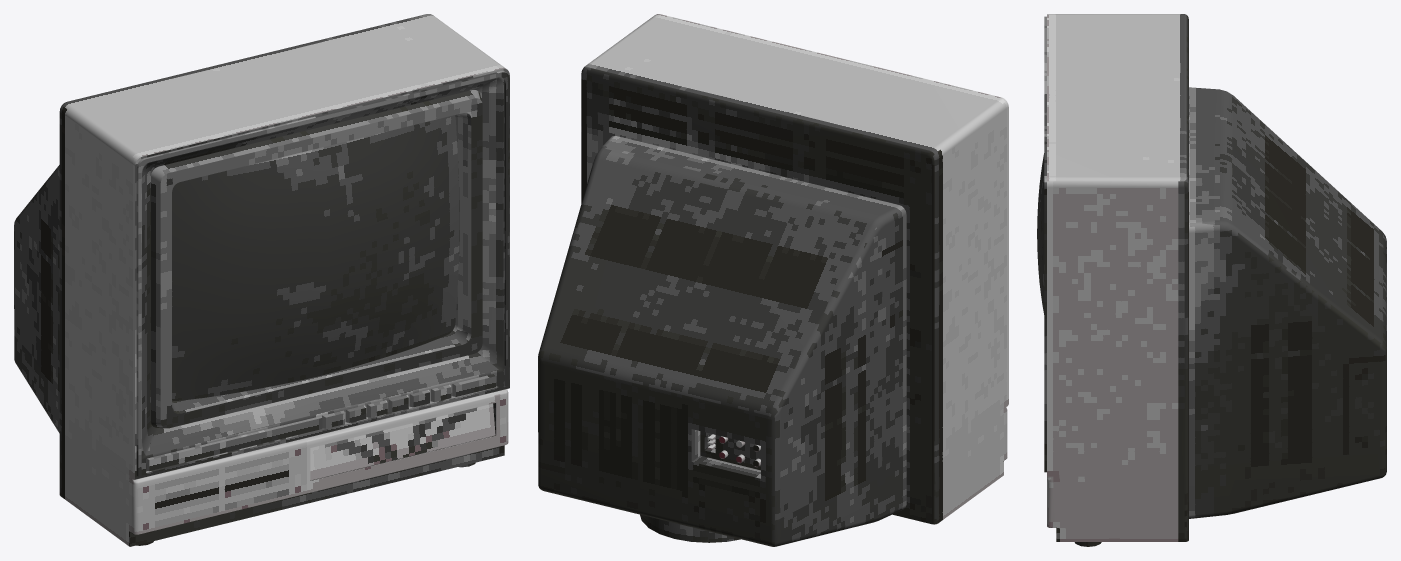
3 renders of one model, left to right at view 1: azimuth 30°, elevation 25°; view 2: azimuth 150°, elevation 25°; view 3: azimuth 270°, elevation 25°, orthographic. The views are drawn at different scales.
Visible parts, largest first — view 1: mesh; view 2: mesh; view 3: mesh.
Boxes of the visible parts, x1,y1,x2,y2 form: mesh: [14, 14, 509, 546]; mesh: [538, 14, 1008, 546]; mesh: [1037, 14, 1386, 546].
Size of the model in its own units: 0.3998 by 0.4114 by 0.3502.
Materials: 1 (1 with a texture image).
